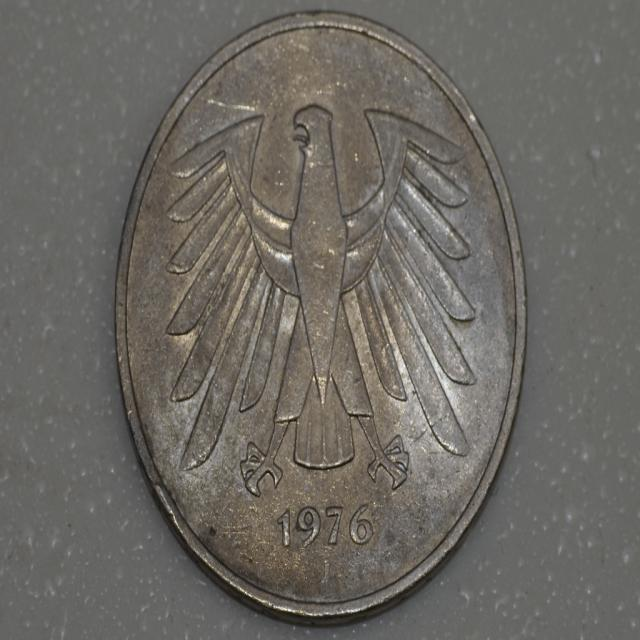Coin: (113, 10, 530, 625)
